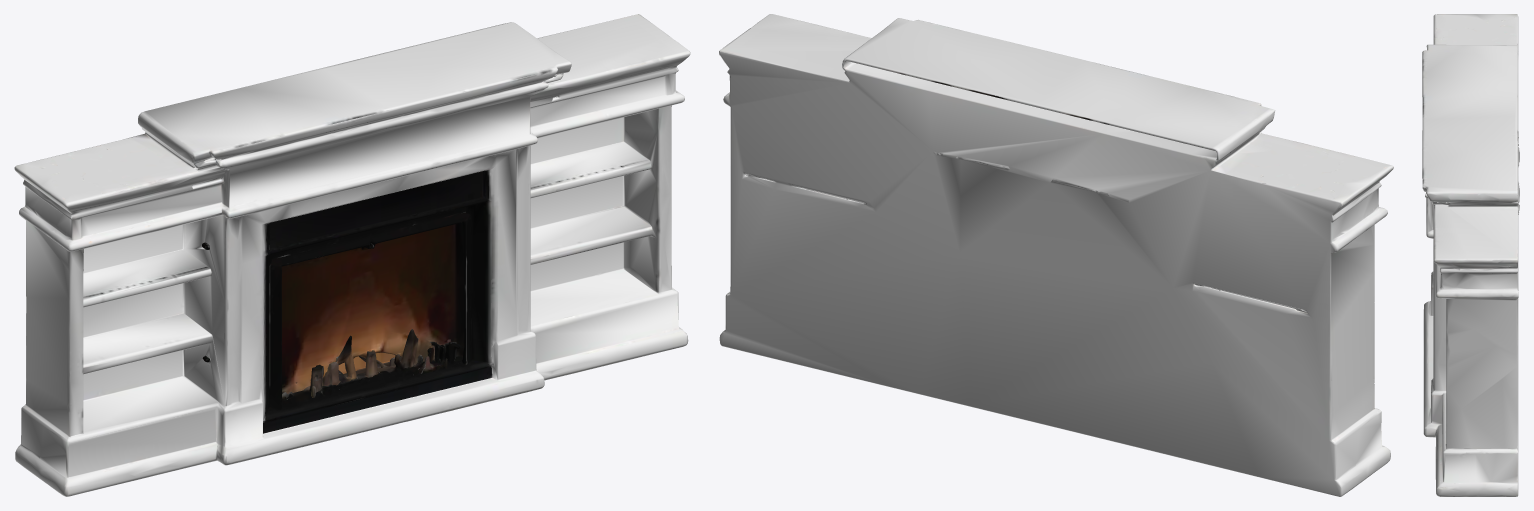
File: zrsOJw_q2Tbkmka8wR94H.glb
3 views of the same model, side by side, from view 1: azimuth 30°, elevation 25°; view 2: azimuth 150°, elevation 25°; view 3: azimuth 270°, elevation 25° (orthographic). The views are drawn at different scales.
Visible parts, largest first — view 1: geometry_0; view 2: geometry_0; view 3: geometry_0.
Boxes of the visible parts, x1,y1,x2,y2 form: geometry_0: (14,14,690,496); geometry_0: (719,14,1393,496); geometry_0: (1422,14,1519,496).
Bounding box in the file's own units: 1 × 0.4896 × 0.1679.
1 material, 1 textured.
